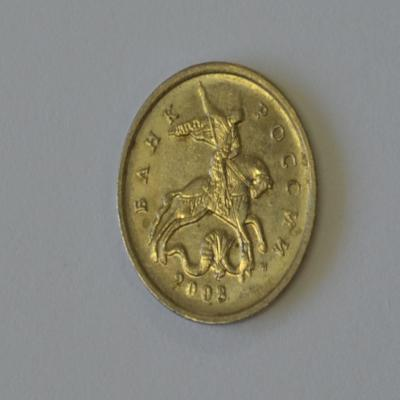numismatics: (115, 62, 318, 327)
